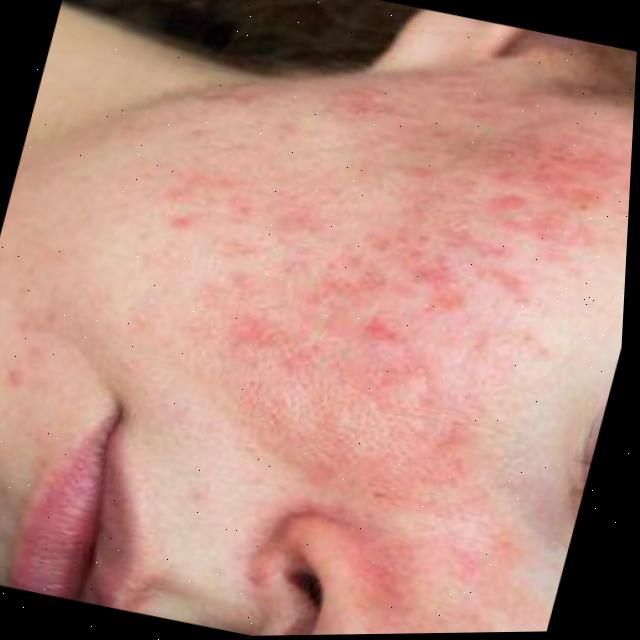Rosacea: (64, 53, 632, 639)
